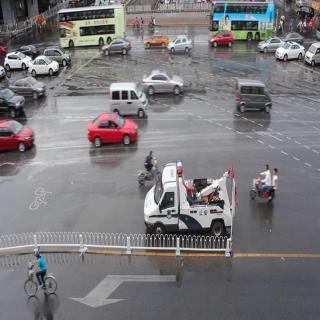BigCar: (210, 0, 274, 40), (54, 7, 126, 42)
Car: (143, 157, 230, 230), (86, 112, 138, 148), (236, 78, 274, 120), (108, 80, 147, 120), (142, 69, 186, 101), (0, 117, 36, 153), (0, 84, 26, 115), (15, 75, 44, 99), (28, 55, 59, 77), (44, 44, 73, 66), (275, 41, 305, 62), (104, 38, 134, 57), (168, 36, 194, 57), (208, 31, 233, 50), (5, 54, 29, 72), (259, 36, 283, 54), (144, 35, 170, 50), (306, 40, 320, 66)
